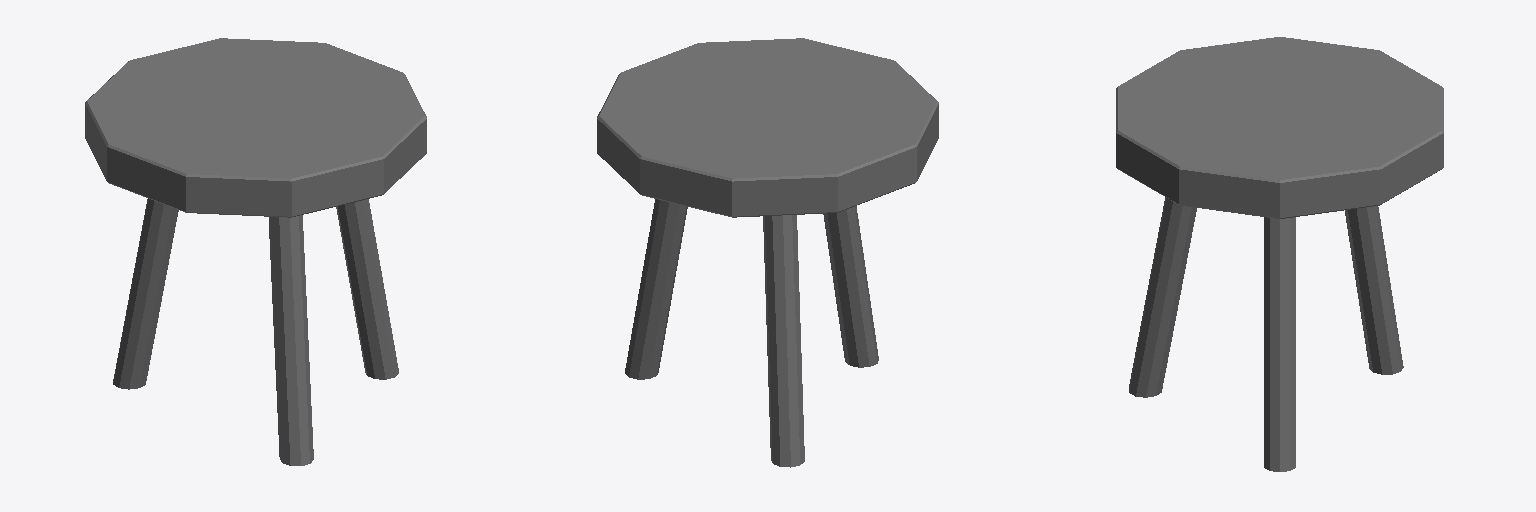
The model's file is ChairRound.obj.
3 renders of one model, left to right at view 1: azimuth 30°, elevation 25°; view 2: azimuth 150°, elevation 25°; view 3: azimuth 270°, elevation 25°, orthographic.
Parts seen in each view (by area): view 1: ChairRound ChairTop, ChairRound Leg2, Leg1 ChairRound, ChairRound Leg3; view 2: ChairRound ChairTop, Leg1 ChairRound, ChairRound Leg3, ChairRound Leg2; view 3: ChairRound ChairTop, ChairRound Leg3, ChairRound Leg2, Leg1 ChairRound.
Part boxes in pixels (bbox=[...]): ChairRound ChairTop: bbox=[85, 38, 426, 217]; ChairRound Leg2: bbox=[269, 215, 313, 465]; Leg1 ChairRound: bbox=[113, 198, 178, 389]; ChairRound Leg3: bbox=[336, 199, 398, 379]; ChairRound ChairTop: bbox=[597, 38, 938, 217]; Leg1 ChairRound: bbox=[763, 215, 804, 467]; ChairRound Leg3: bbox=[625, 199, 687, 379]; ChairRound Leg2: bbox=[823, 206, 878, 367]; ChairRound ChairTop: bbox=[1116, 37, 1443, 218]; ChairRound Leg3: bbox=[1264, 217, 1295, 471]; ChairRound Leg2: bbox=[1129, 197, 1196, 397]; Leg1 ChairRound: bbox=[1345, 206, 1403, 374].
Bounding box in the file's own units: 108 × 102 × 103.